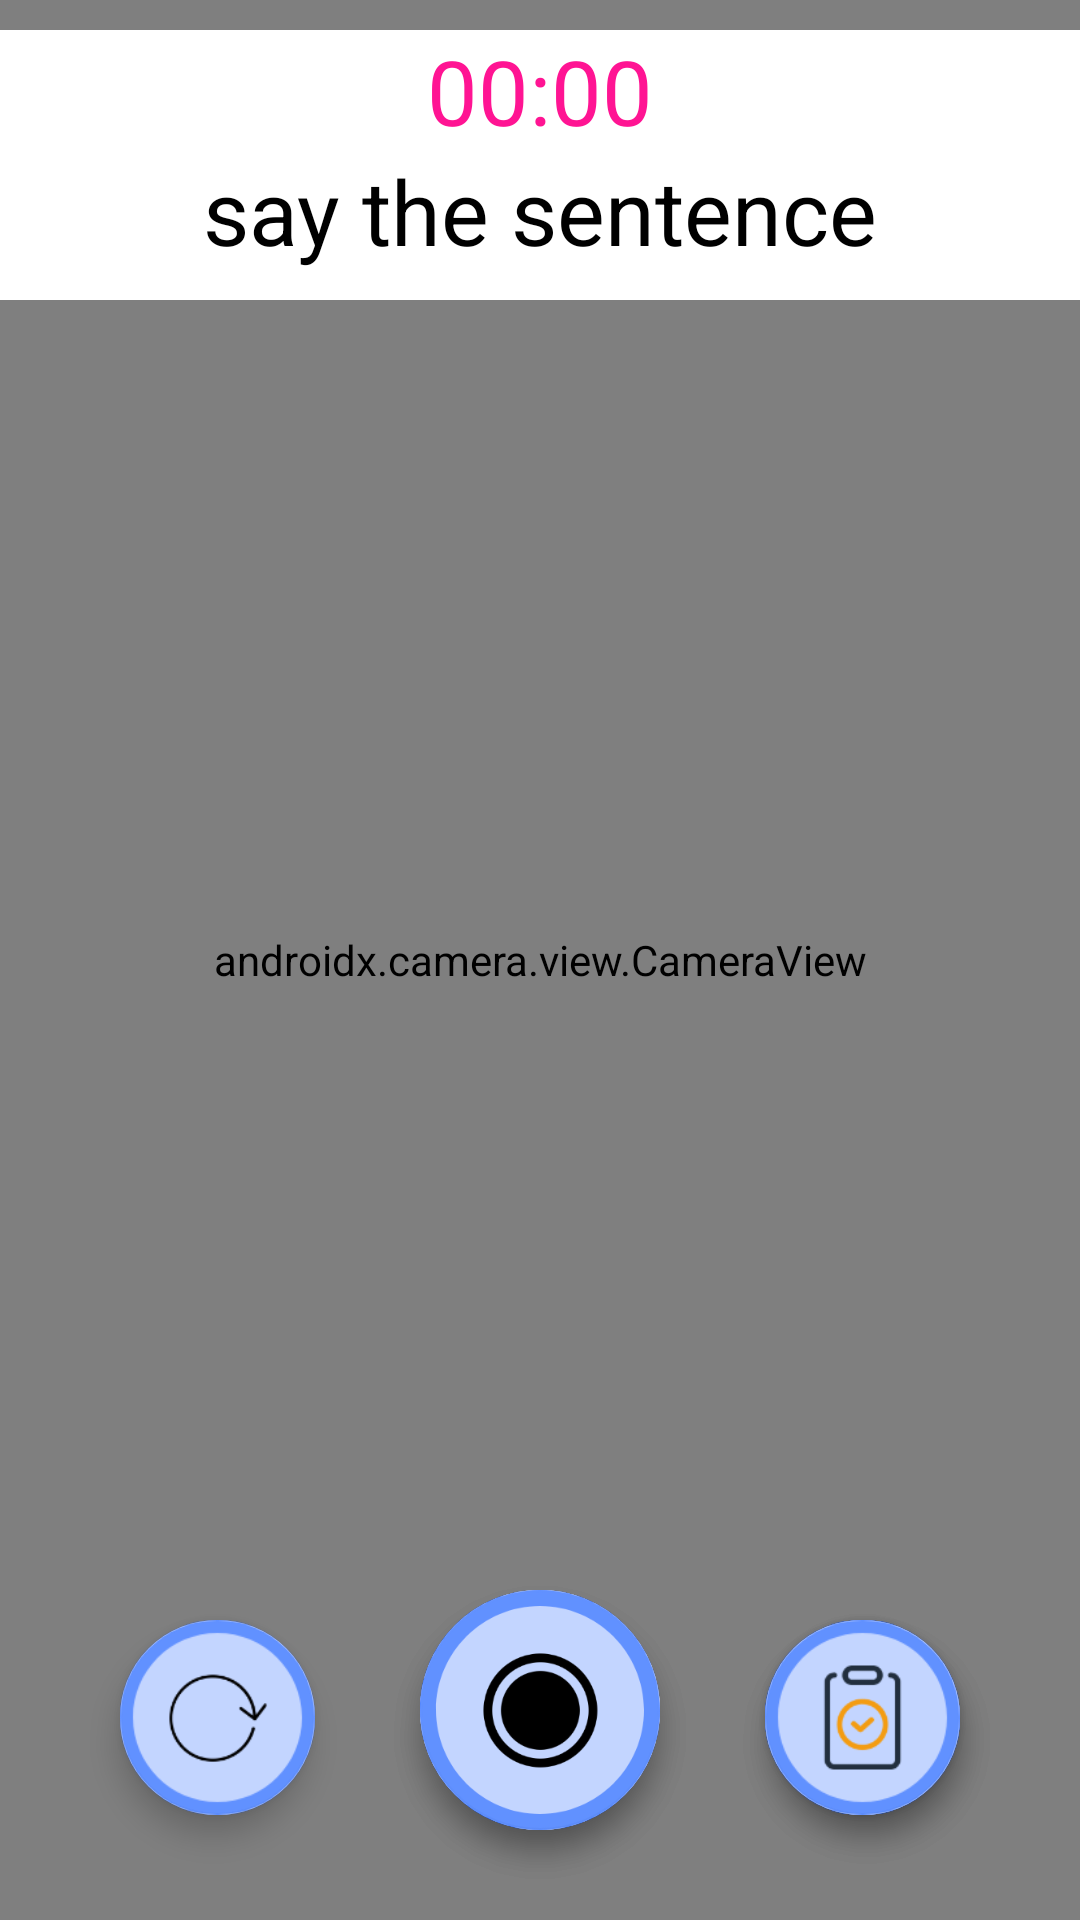

Named icons in this screenshot (1080×1920) and their bounding boxes, BBox(x1, y1, x2, y2):
reset: BBox(120, 1620, 315, 1815)
